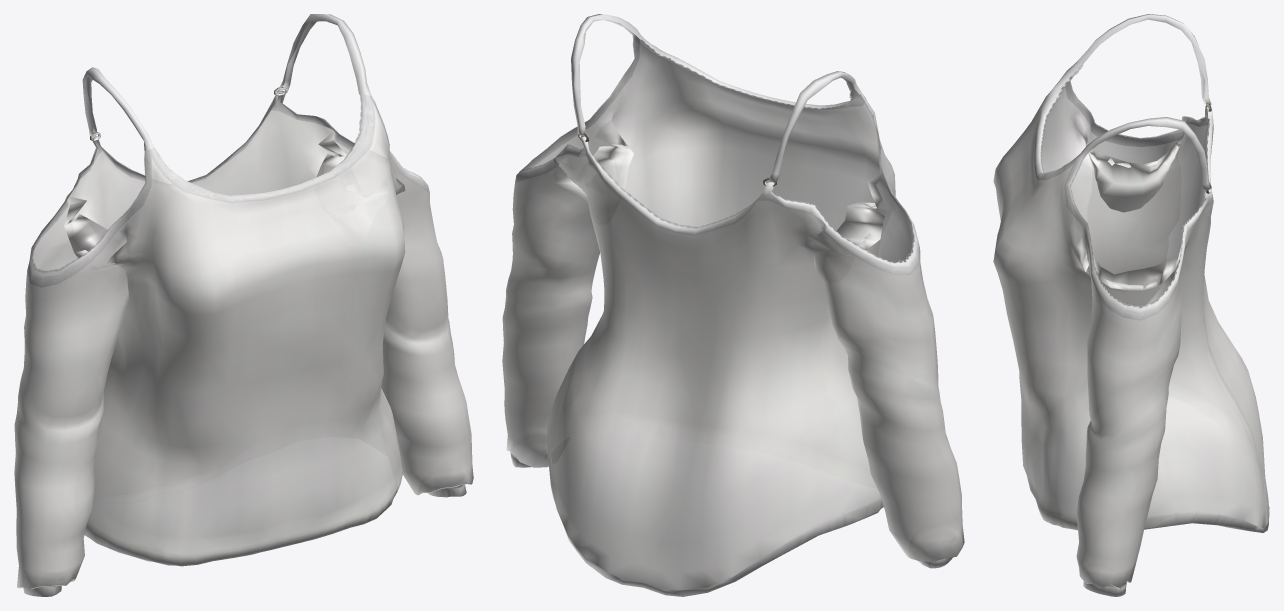
Rendered from punkduck-off-shoulder-long-sleeve-top.glb.
The picture shows the model from 3 angles, left to right: view 1: azimuth 30°, elevation 25°; view 2: azimuth 150°, elevation 25°; view 3: azimuth 270°, elevation 25°; orthographic projection. The views are drawn at different scales.
Parts seen in each view (by area): view 1: Human.punkduck_off-shoulder_long-sleeve_top; view 2: Human.punkduck_off-shoulder_long-sleeve_top; view 3: Human.punkduck_off-shoulder_long-sleeve_top.
Part boxes in pixels (left/top/right/bottom): Human.punkduck_off-shoulder_long-sleeve_top: left=14, top=14, right=473, bottom=596; Human.punkduck_off-shoulder_long-sleeve_top: left=502, top=14, right=964, bottom=596; Human.punkduck_off-shoulder_long-sleeve_top: left=993, top=14, right=1269, bottom=596.
Bounding box in the file's own units: 0.515 × 0.54 × 0.3015.
Materials: 1 (1 with a texture image).
